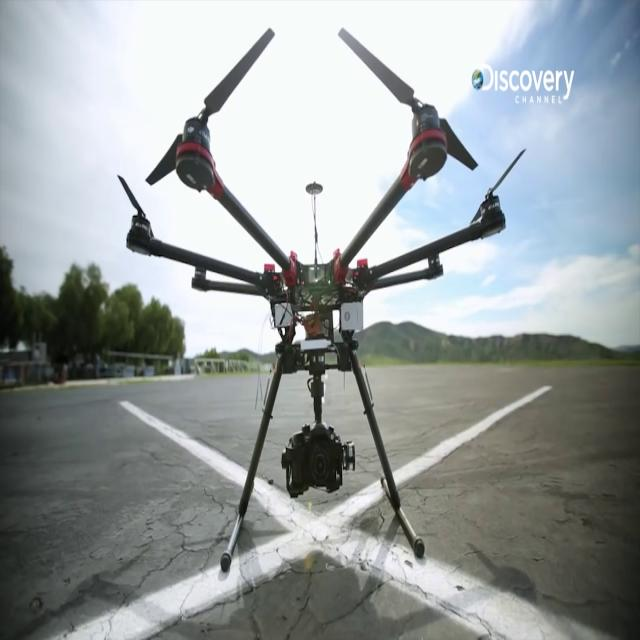drone: (114, 8, 513, 568)
